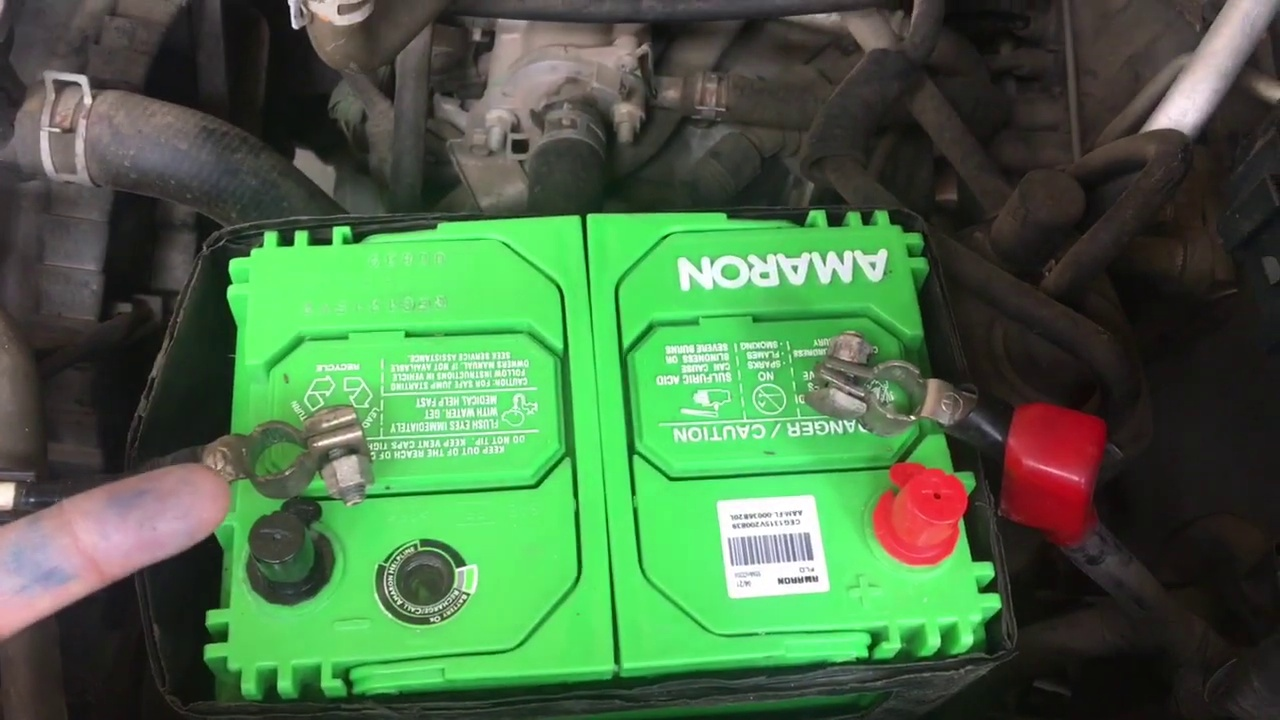battery: (222, 224, 968, 653)
neg_disconnected: (221, 382, 412, 613)
neg_touched: (113, 384, 377, 596)
pos_disconnected: (797, 297, 1074, 569)
